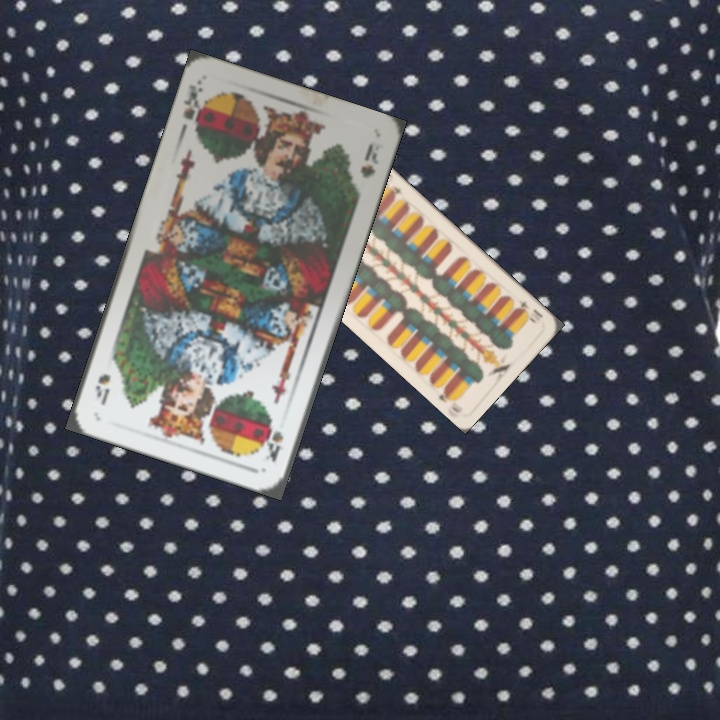E10: (512, 296, 538, 326)
SK: (179, 78, 209, 135), (261, 422, 286, 464)
